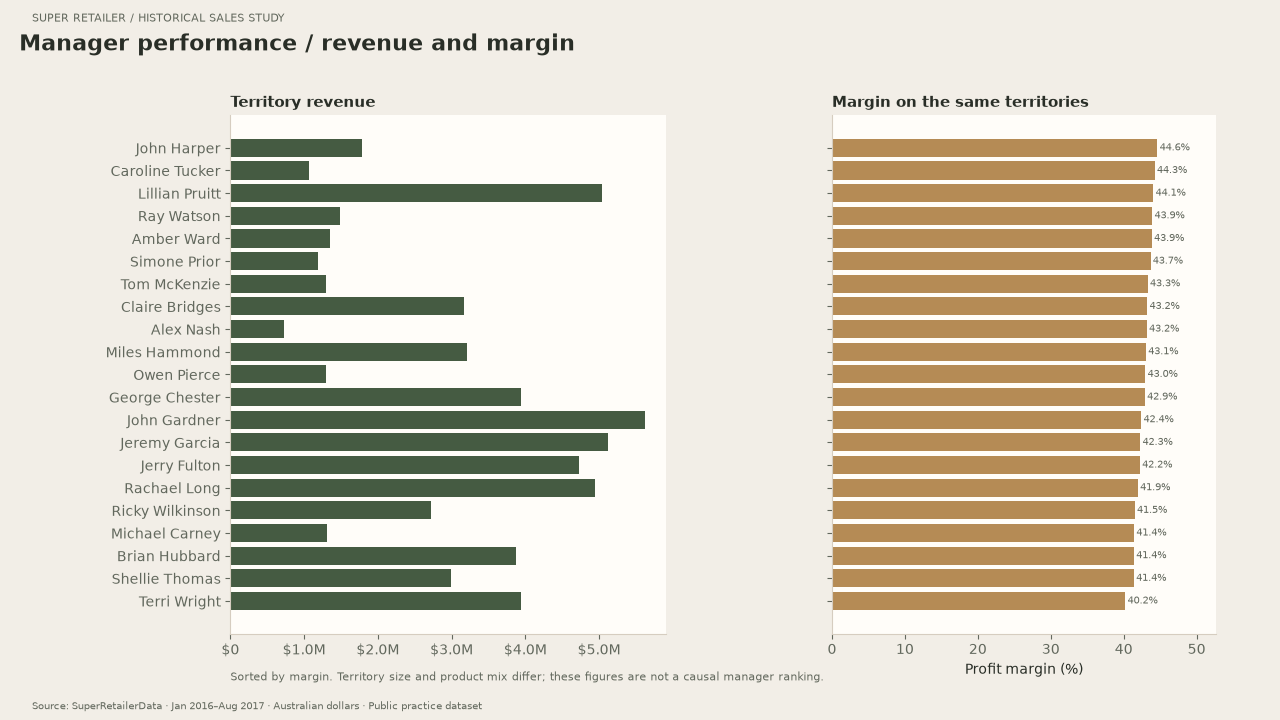

The page's visual inventory and layout, read from the dashboard file:
{"tool":"powerbi","page":{"name":"Manager performance","canvas":[1280,720],"ordinal":3},"visuals":[{"type":"clusteredBarChart","fields":{"Y":["Sum(Sales.Revenue)"],"Category":["Managers.Manager Hierarchy.Manager","Managers.Manager Hierarchy.Suburb"]},"box":[9.7,0,935.2,720],"z":0},{"type":"actionButton","box":[0,679.4,32.7,40.4],"z":1},{"type":"actionButton","box":[1246.9,679.3,32.8,40.7],"z":2}]}

Visuals, with their boxes in screenshot pixels (x1, y1, x2, y2), scaled from the page's 1280x720 canvas onto the 1280x720 screenshot:
clusteredBarChart - Sum(Sales.Revenue) x Managers.Manager Hierarchy.Manager: select_region(10, 0, 945, 719)
actionButton: select_region(0, 679, 33, 719)
actionButton: select_region(1247, 679, 1279, 719)
